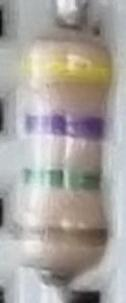Blue: (21, 109, 109, 141)
Brown: (22, 165, 105, 193)
Orange: (17, 222, 110, 251)
Yellow: (21, 57, 116, 88)
